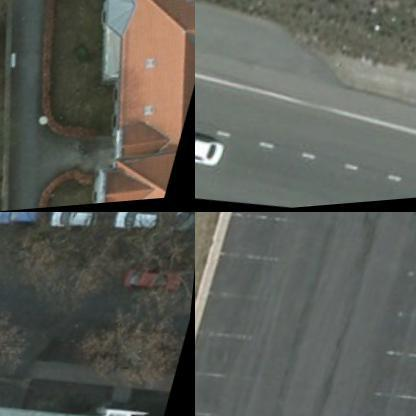car: (119, 261, 188, 303), (195, 122, 243, 170), (114, 212, 166, 242), (47, 212, 99, 235), (0, 212, 50, 233)
